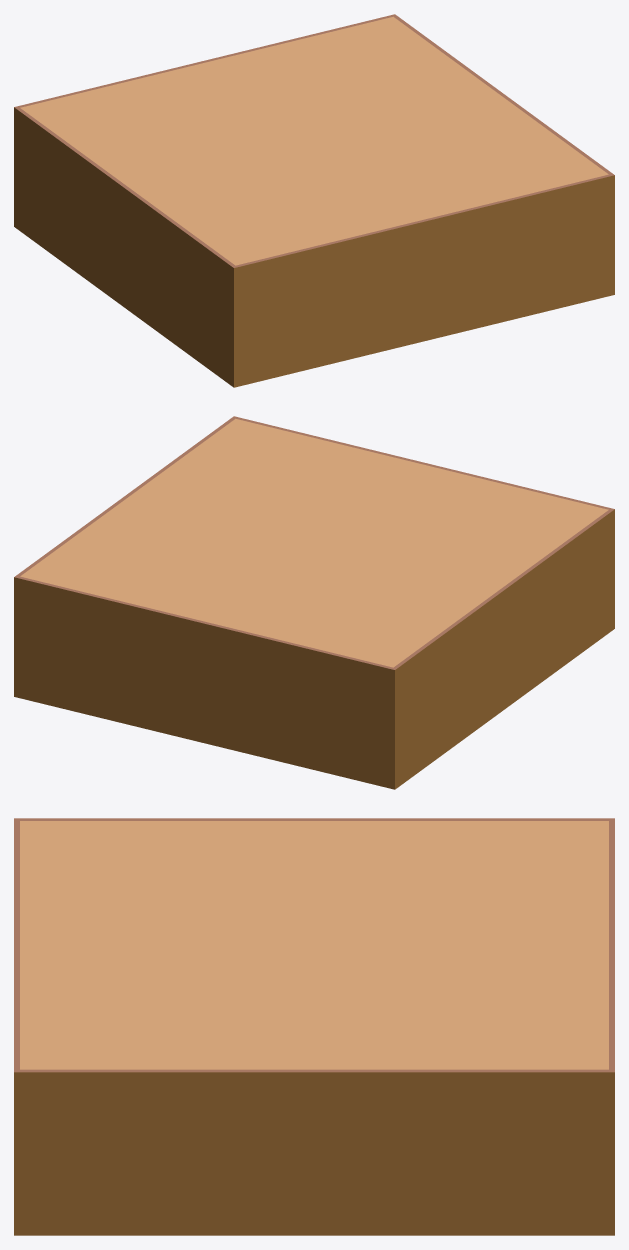
The model's file is floor1_basic.fbx.
3 renders of one model, top to bottom at view 1: azimuth 30°, elevation 25°; view 2: azimuth 150°, elevation 25°; view 3: azimuth 270°, elevation 25°, orthographic. The views are drawn at different scales.
Visible parts, largest first — view 1: basic_floor1; view 2: basic_floor1; view 3: basic_floor1.
Boxes of the visible parts, bbox=[...] form: basic_floor1: bbox=[14, 14, 614, 387]; basic_floor1: bbox=[14, 416, 614, 789]; basic_floor1: bbox=[14, 818, 614, 1235].
Size of the model in its own units: 100 by 30 by 100.
